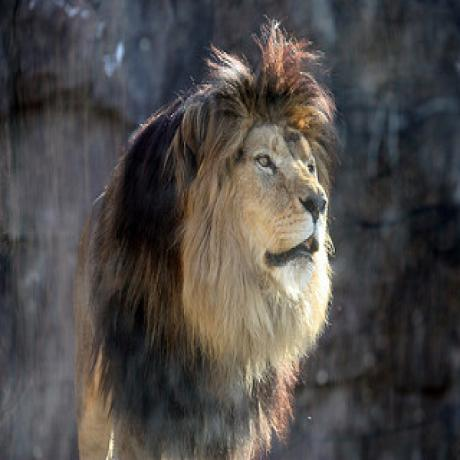Lion: (82, 23, 333, 460)
